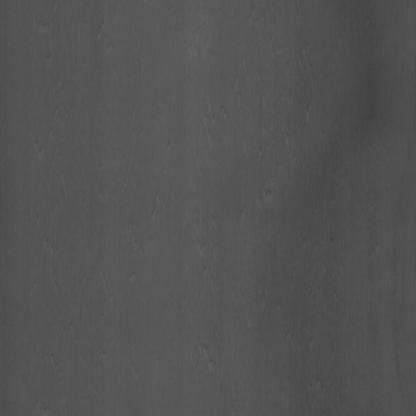silk_spot: (252, 137, 306, 226), (228, 281, 286, 324), (198, 217, 230, 275), (196, 347, 219, 391)
